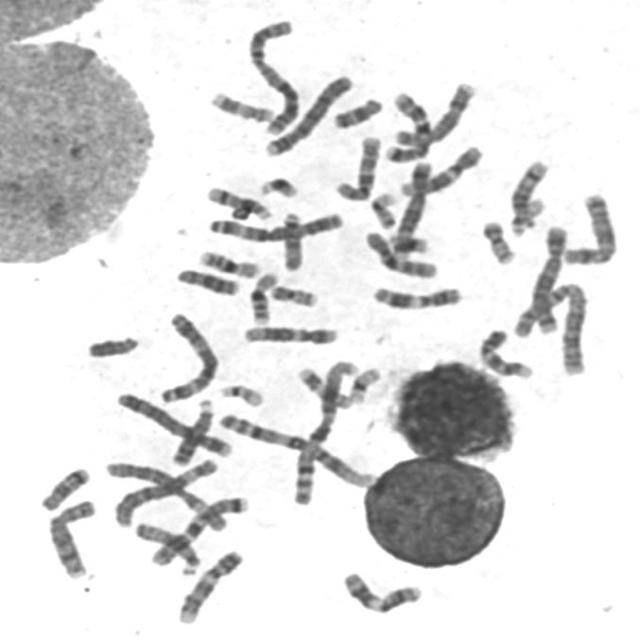A1: (215, 409, 378, 489), (288, 356, 360, 508)
A2: (510, 278, 592, 377), (243, 15, 302, 136)
A3: (155, 308, 222, 404), (203, 208, 346, 244)
B4: (112, 388, 235, 458), (261, 70, 355, 158)
B5: (524, 220, 570, 336), (387, 156, 435, 259)
C10: (360, 226, 441, 281), (331, 132, 384, 202)
C11: (338, 568, 424, 616), (368, 282, 465, 312)
C12: (396, 141, 486, 198), (238, 321, 342, 346)
C6: (104, 456, 226, 532), (114, 458, 220, 530)
C7: (144, 492, 252, 568), (381, 87, 435, 165)
C8: (391, 78, 478, 148), (43, 495, 99, 581)
C9: (173, 546, 245, 626), (474, 326, 536, 381)
D13: (168, 396, 216, 468), (172, 265, 241, 298)
D14: (506, 155, 552, 238), (202, 182, 274, 222)
D15: (130, 518, 202, 576), (277, 207, 305, 273)
E16: (194, 245, 263, 280), (244, 267, 281, 326)
E17: (292, 362, 356, 412), (205, 87, 277, 125)
E18: (36, 462, 92, 512), (329, 93, 386, 130)
F19: (344, 363, 382, 406), (366, 189, 401, 230)
F20: (477, 217, 518, 266), (266, 281, 320, 308)
G21: (384, 230, 431, 256), (255, 173, 301, 199)
G22: (506, 193, 547, 236), (214, 380, 266, 408)
X: (559, 190, 621, 267)
Y: (83, 332, 141, 360)
